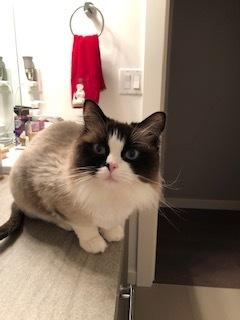ragdoll: (68, 97, 170, 215)
